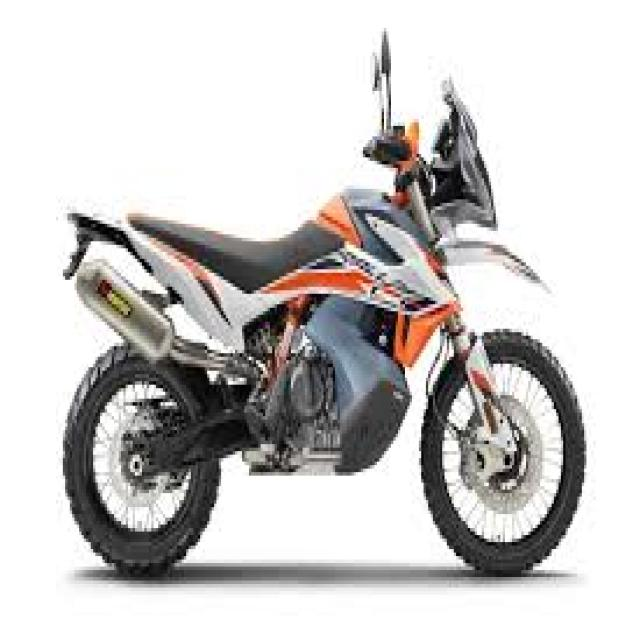bodaboda: (36, 9, 632, 602)
